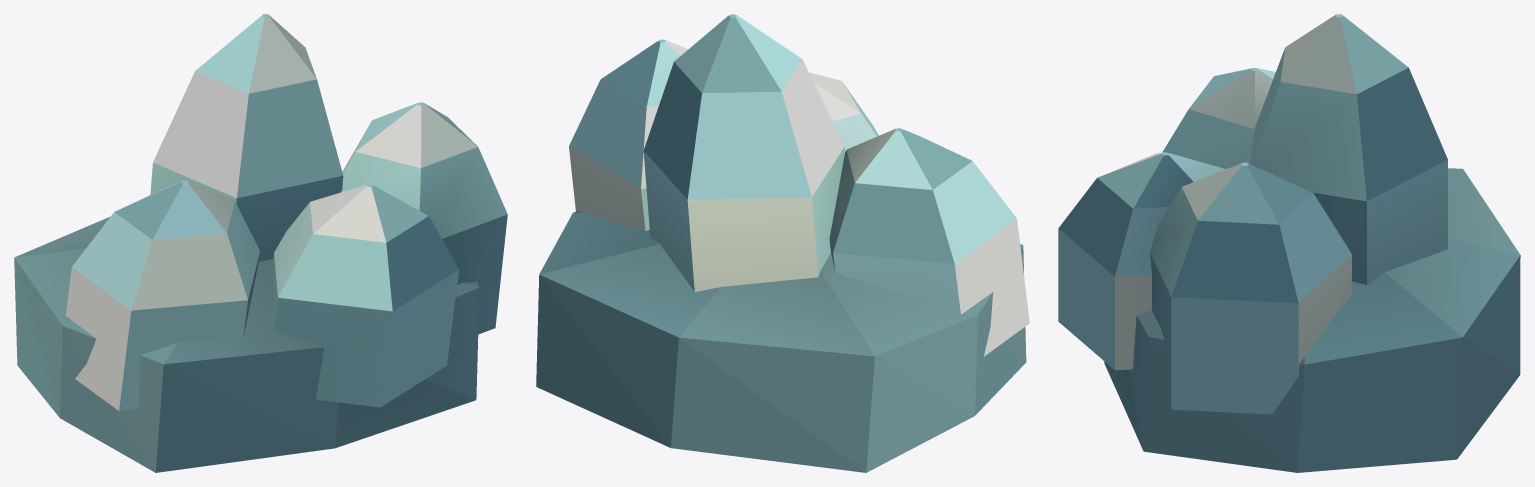
Rendered from find_sky_quartz.glb.
3 renders of one model, left to right at view 1: azimuth 30°, elevation 25°; view 2: azimuth 150°, elevation 25°; view 3: azimuth 270°, elevation 25°, orthographic. The views are drawn at different scales.
Visible parts, largest first — view 1: find_sky_quartz; view 2: find_sky_quartz; view 3: find_sky_quartz.
Part boxes in pixels (x1,y1,x2,y2): find_sky_quartz: (14,14,507,472); find_sky_quartz: (536,14,1029,472); find_sky_quartz: (1058,14,1520,472).
Bounding box in the file's own units: 0.4944 × 0.47 × 0.4663.
